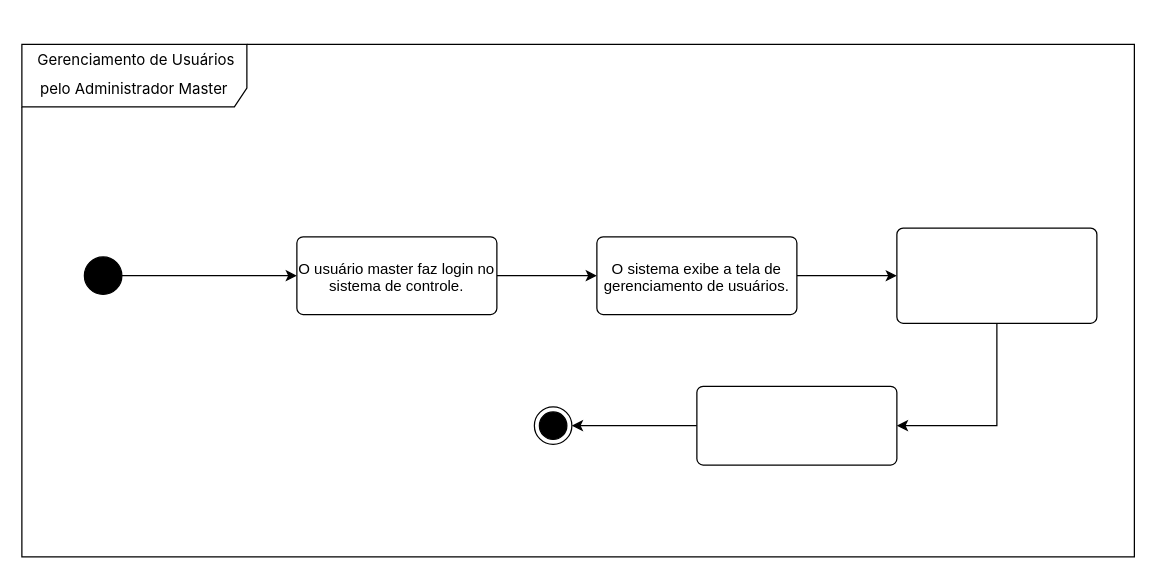
Image size: 1156x579. Some labels were removed from this diagram. Here are the shapes that lost their labels. From the top down, the box of each, then its label:
(896, 227, 1097, 323): O usuário master cria, edita ou remove usuários conforme necessário.
(696, 385, 897, 465): Todas as ações são registradas nos logs auditáveis.
